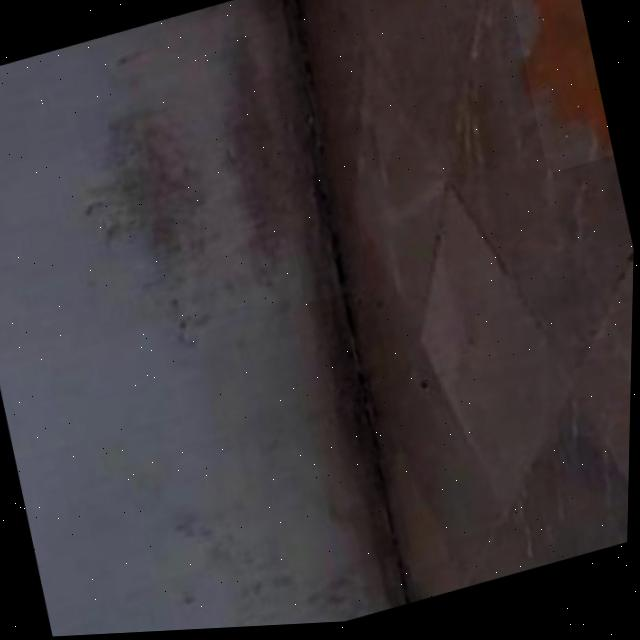spillage: (526, 0, 614, 162)
